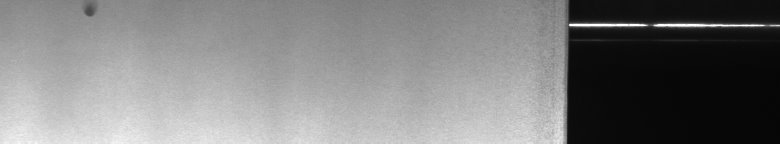fi: (80, 4, 101, 24)
